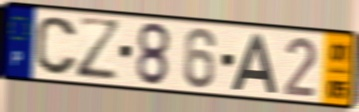2: (282, 36, 318, 100)
6: (182, 26, 217, 91)
8: (134, 21, 172, 88)
A: (229, 32, 279, 95)
C: (33, 15, 79, 78)
Z: (74, 14, 124, 81)
